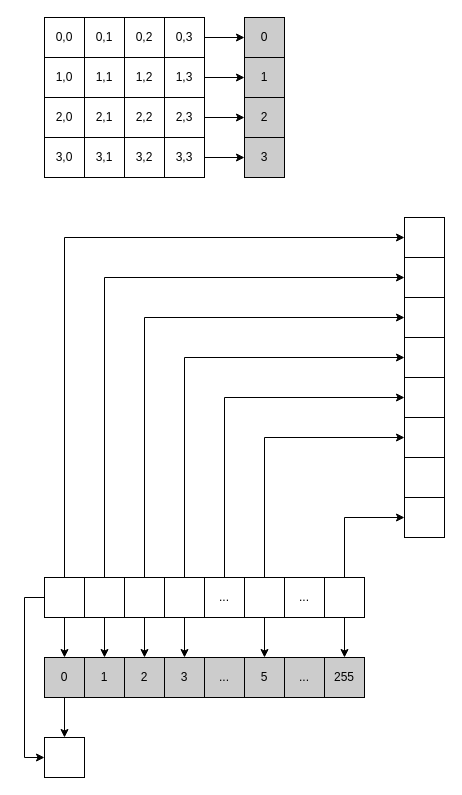
The diagram is 462 pixels wide and 795 high, and some of its shapes have lost their labels. Here are the shapes that lost their labels. From the top down, the centre of each, then its label:
(x=64, y=597): t0
(x=104, y=597): t1
(x=144, y=597): t2
(x=184, y=597): t3
(x=264, y=597): t31
(x=344, y=597): t255
(x=64, y=757): sum
